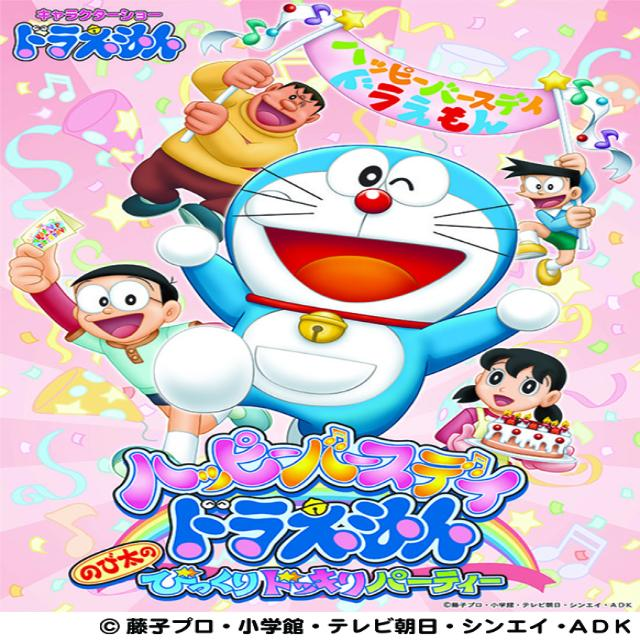doraemon: (187, 133, 542, 359)
jaian: (228, 77, 338, 137)
nobita: (42, 248, 178, 353)
shizuka: (443, 340, 579, 434)
suneo: (491, 146, 592, 214)
